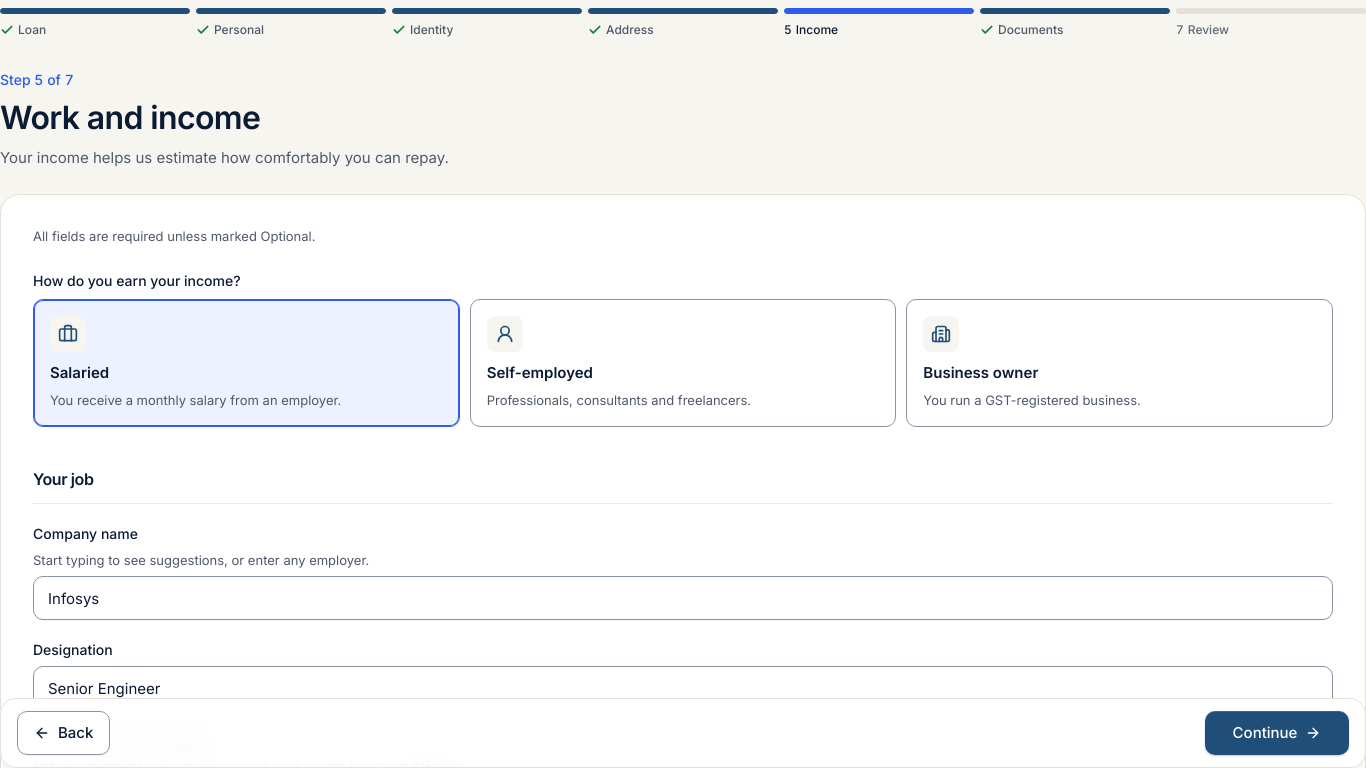
Test: Step 5 — employment › asks before switching away from filled-in salary details, and clears them on confirm
Check: the button "Continue" is enabled, box [1205,711,1349,755]
Check: the dropdown labelled "Company name" holds "Infosys", box [33,576,1333,620]
What coordinates should you click on to do the following:
click the radio button labelled "Self-employed Professionals, consultants and freelancers."
I would click on:
 (683, 363)
Its box is [470,298,896,427].
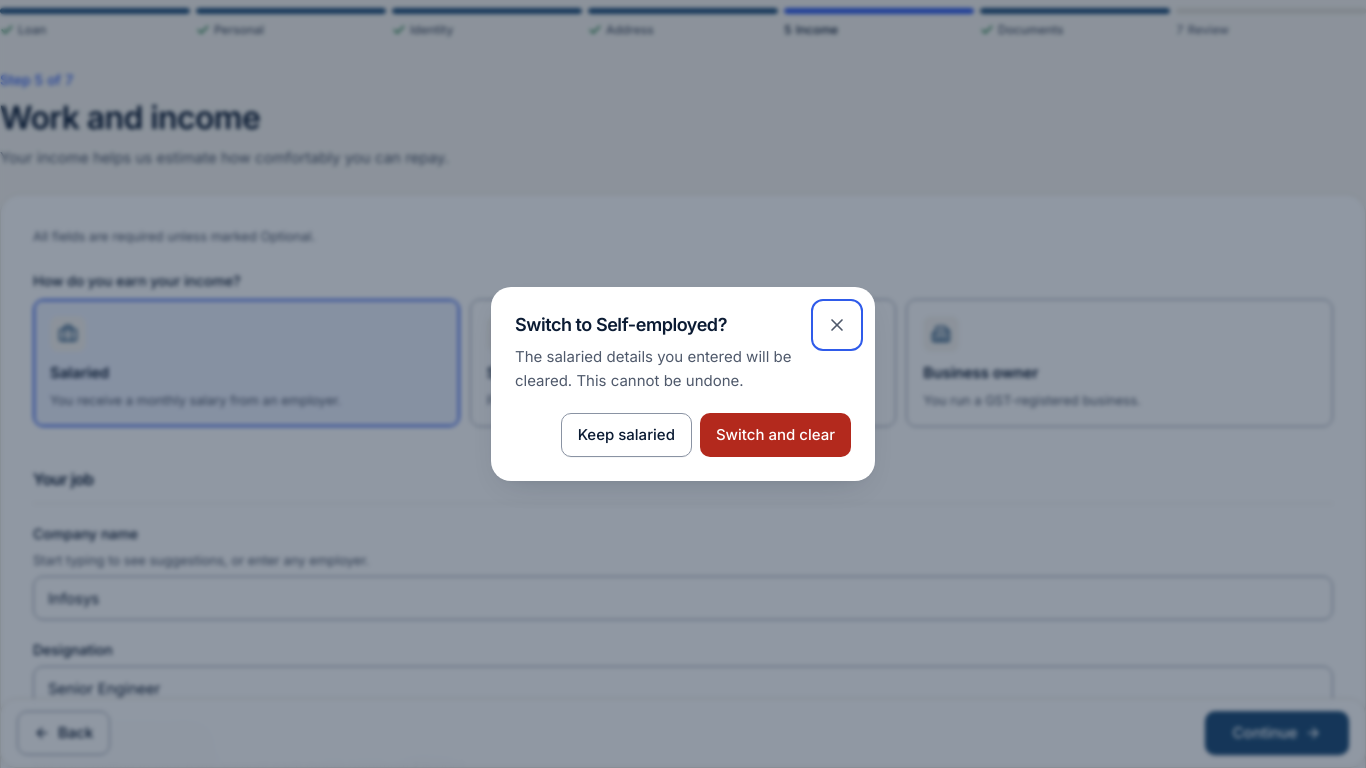
What coordinates should you click on to do the following:
click the button "Keep salaried"
I would click on:
 (626, 435)
Its box is [561,413,692,457].
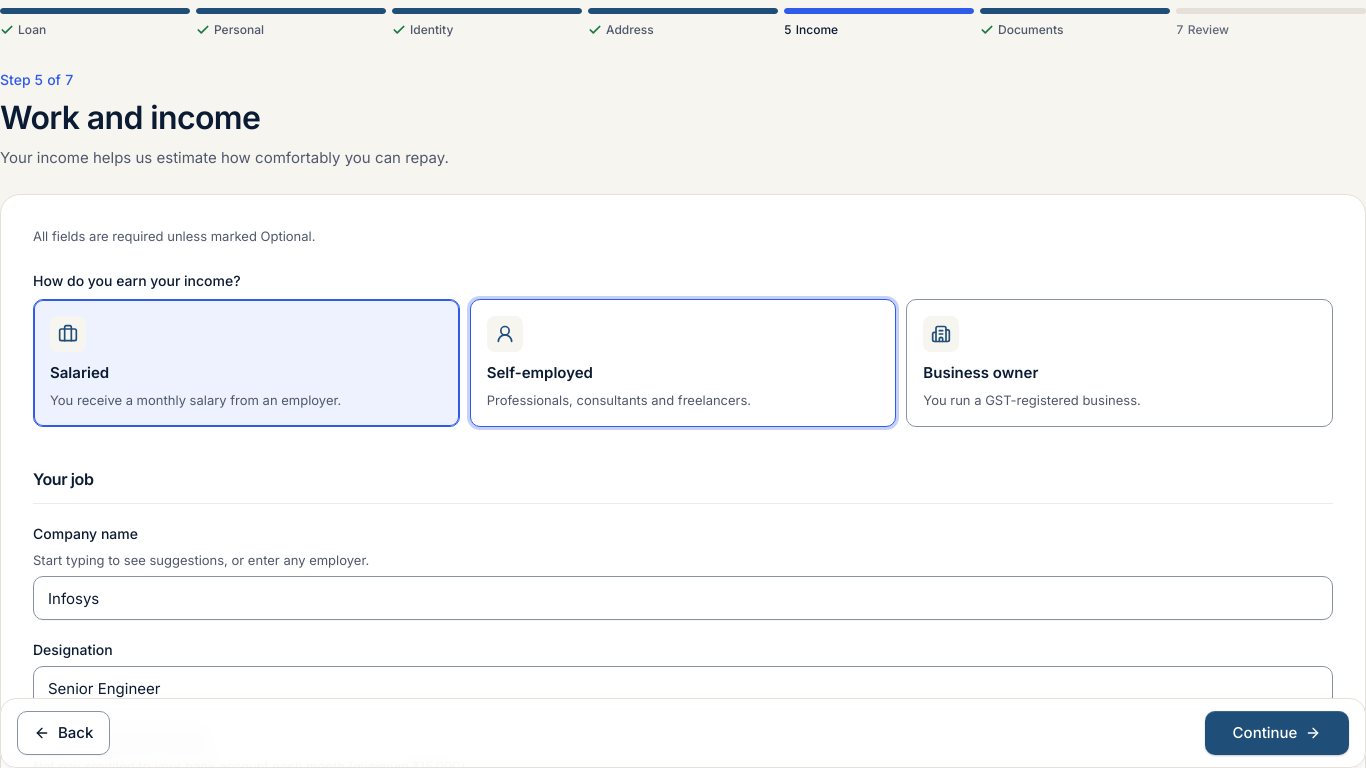
Check: the dropdown labelled "Company name" holds "Infosys", box [33,576,1333,620]
What coordinates should you click on to do the following:
click the radio button labelled "Self-employed Professionals, consultants and freelancers."
I would click on:
 (683, 363)
Its box is [470,298,896,427].
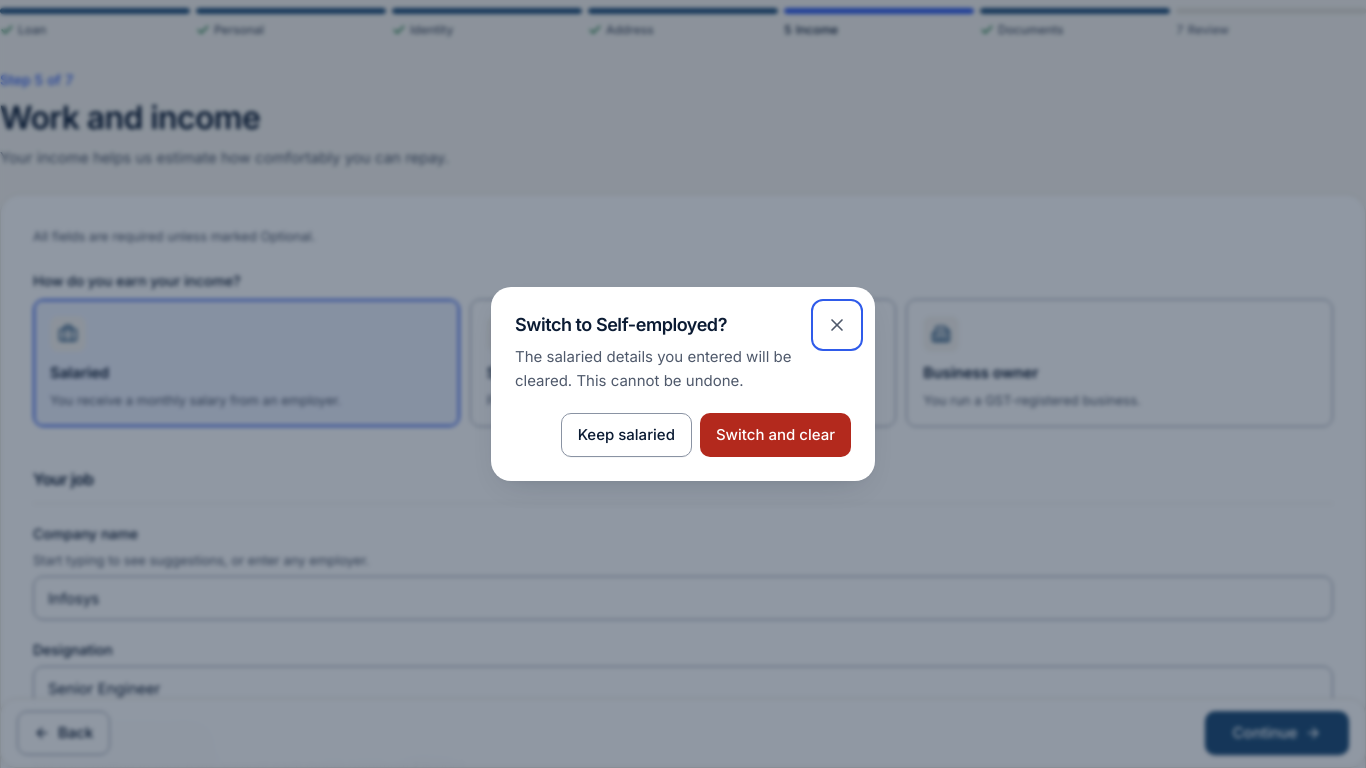
What coordinates should you click on to do the following:
click the button "Switch and clear"
I would click on:
 (775, 435)
Its box is [700,413,851,457].
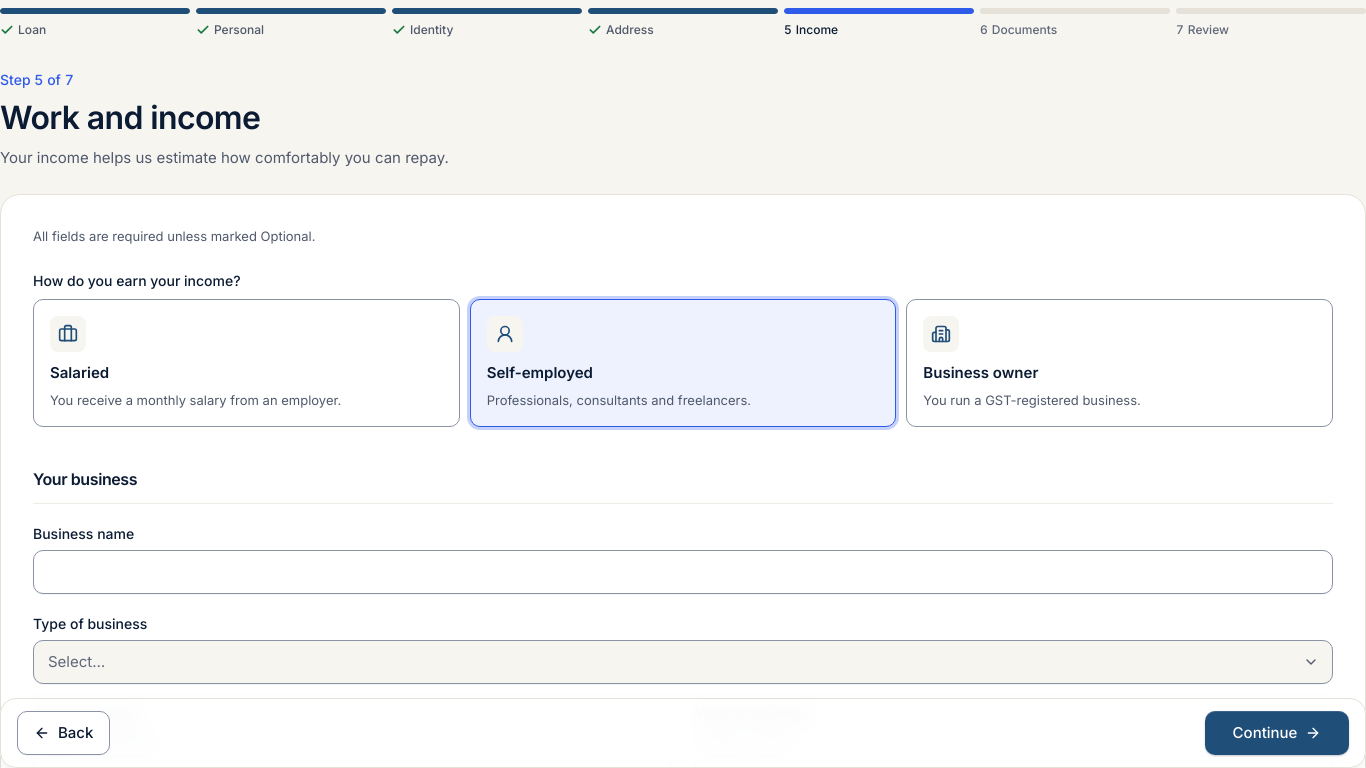
Check: the dropdown labelled "Company name" is gone
Check: the field labelled "Business name" is empty, box [33,550,1333,594]
